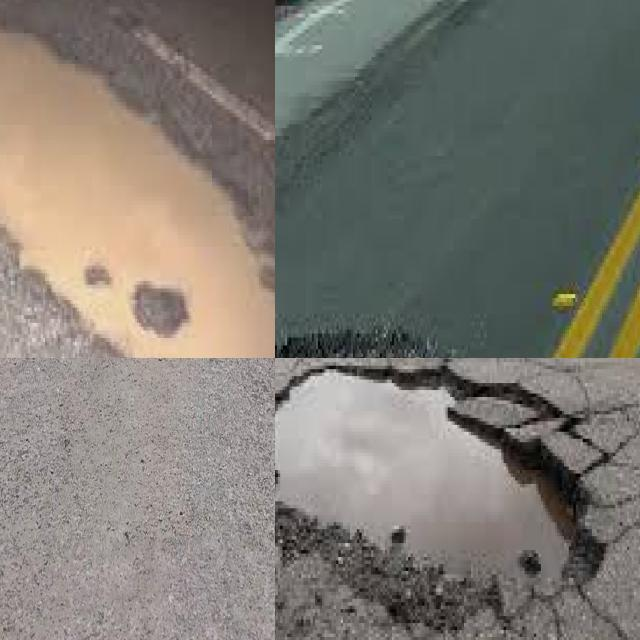Pothole: (0, 26, 275, 358), (275, 362, 597, 613)
